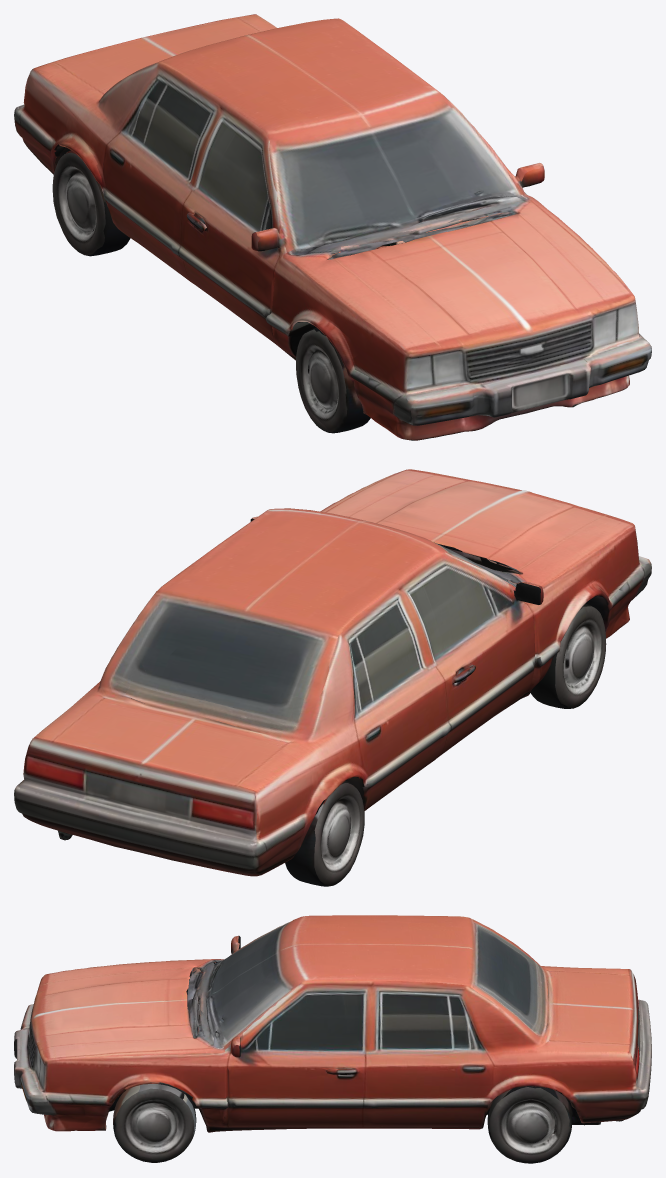
The model's file is auto-martin.glb.
3 renders of one model, top to bottom at view 1: azimuth 30°, elevation 25°; view 2: azimuth 150°, elevation 25°; view 3: azimuth 270°, elevation 25°, orthographic. The views are drawn at different scales.
Parts seen in each view (by area): view 1: carroceria, rueda_dr, rueda_tr; view 2: carroceria, rueda_dr, rueda_tr; view 3: carroceria, rueda_di, rueda_ti.
Boxes of the visible parts, <box> form: carroceria: <box>14,14,651,440</box>; rueda_dr: <box>51,132,130,255</box>; rueda_tr: <box>305,321,378,433</box>; carroceria: <box>14,469,651,876</box>; rueda_dr: <box>285,765,368,886</box>; rueda_tr: <box>563,577,624,694</box>; carroceria: <box>14,915,651,1163</box>; rueda_di: <box>484,1073,580,1163</box>; rueda_ti: <box>83,1075,178,1159</box>.
Bounding box in the file's own units: 1.84 × 1.33 × 4.5.
1 material, 1 textured.
